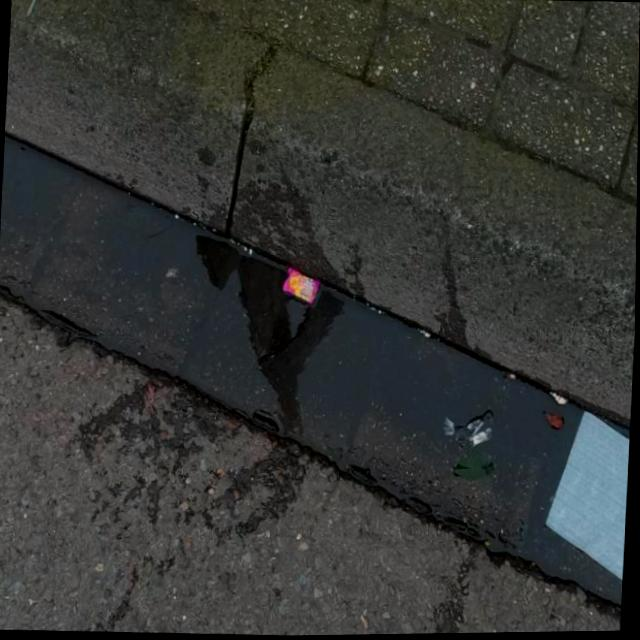Paper: (543, 408, 631, 586)
Plastic: (443, 408, 495, 454), (281, 267, 322, 306)
